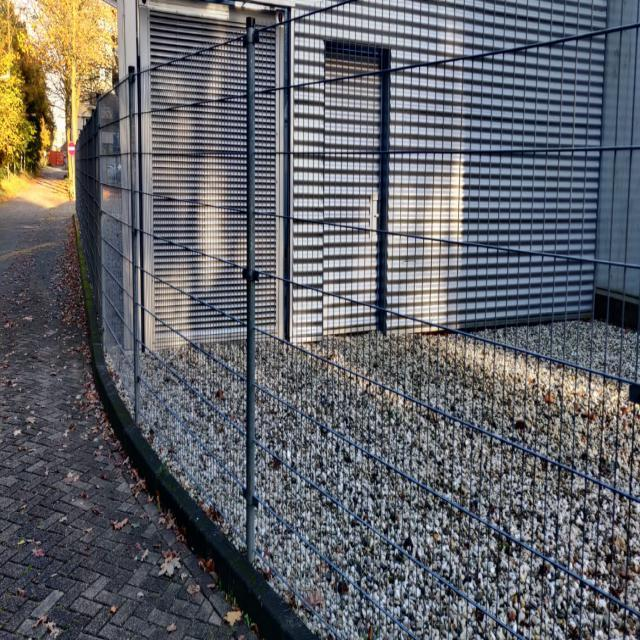fence line: (165, 32, 640, 639), (70, 87, 220, 502)
